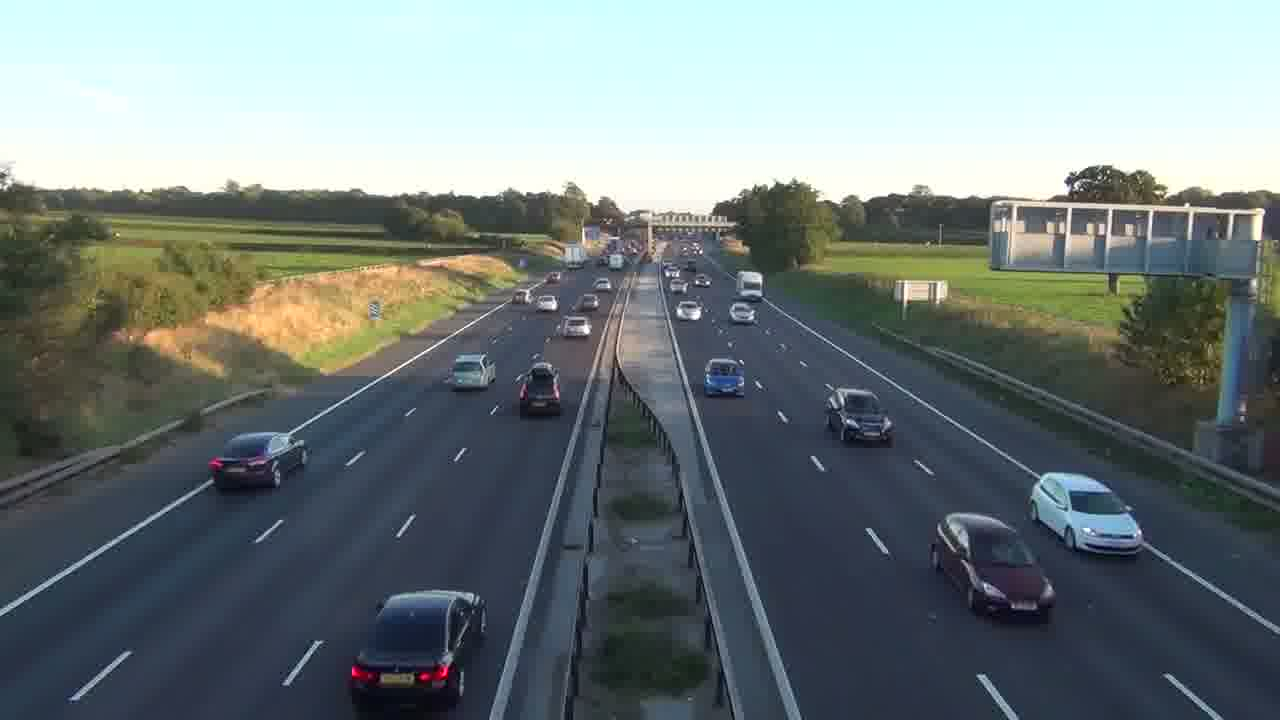car: (348, 589, 487, 712), (929, 511, 1057, 621), (1027, 471, 1144, 556), (208, 430, 309, 491), (516, 364, 562, 417), (448, 352, 497, 391), (704, 357, 746, 398), (729, 301, 758, 325)
truck: (824, 385, 895, 446), (736, 269, 763, 296)
